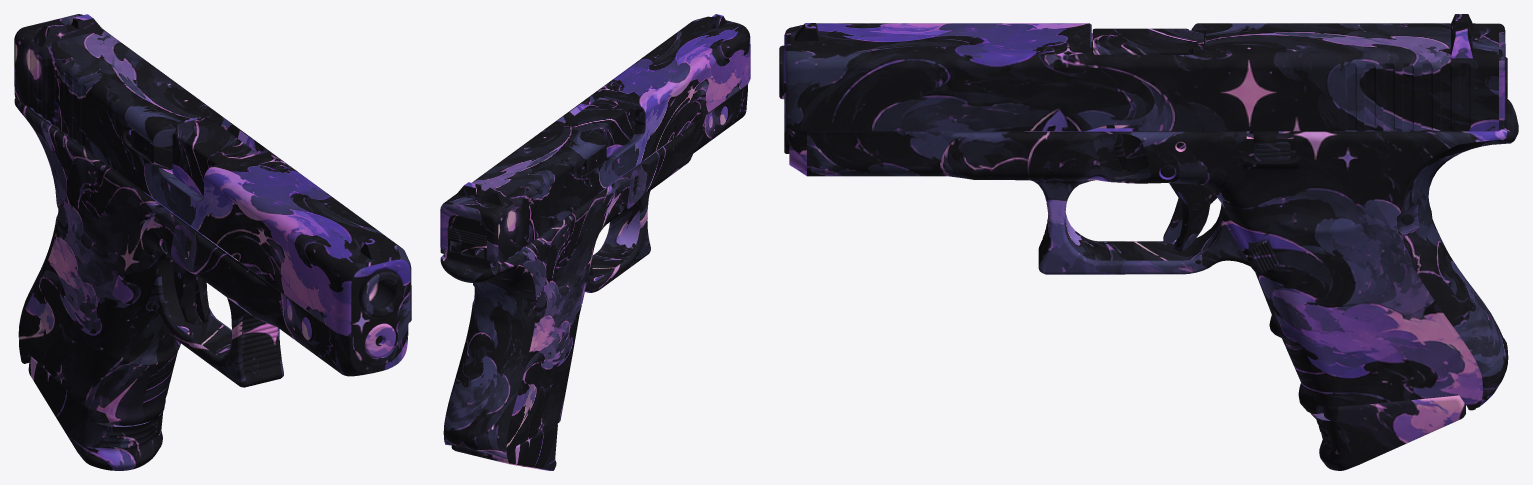
The model's file is glock.glb.
The picture shows the model from 3 angles, left to right: view 1: azimuth 30°, elevation 25°; view 2: azimuth 150°, elevation 25°; view 3: azimuth 270°, elevation 25°; orthographic projection. The views are drawn at different scales.
Visible parts, largest first — view 1: weapons/models/glock18/weapon_pist_glock18.vmdl_c.body_hd_we; view 2: weapons/models/glock18/weapon_pist_glock18.vmdl_c.body_hd_we; view 3: weapons/models/glock18/weapon_pist_glock18.vmdl_c.body_hd_we.
Part boxes in pixels (left/top/right/bottom): weapons/models/glock18/weapon_pist_glock18.vmdl_c.body_hd_we: left=14, top=14, right=411, bottom=470; weapons/models/glock18/weapon_pist_glock18.vmdl_c.body_hd_we: left=440, top=14, right=750, bottom=470; weapons/models/glock18/weapon_pist_glock18.vmdl_c.body_hd_we: left=779, top=14, right=1518, bottom=470.
Bounding box in the file's own units: 0.1014 × 0.4344 × 0.669.
1 material, 1 textured.
